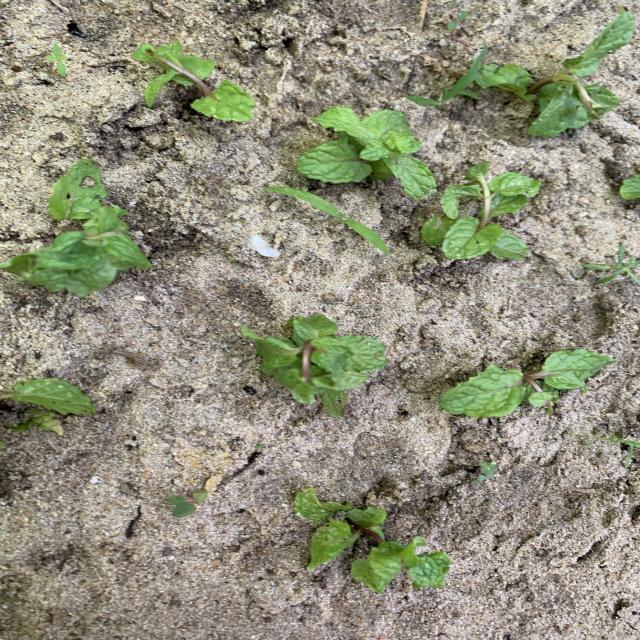crop: (0, 160, 151, 295), (477, 8, 635, 135), (294, 488, 451, 591), (242, 316, 387, 415), (299, 108, 435, 199), (439, 350, 614, 417), (423, 162, 539, 259), (134, 43, 253, 119), (1, 379, 95, 431), (620, 165, 639, 199)
weed: (265, 186, 389, 253), (408, 45, 487, 105), (584, 244, 639, 285), (168, 489, 210, 517), (46, 44, 67, 73), (471, 462, 496, 483), (447, 9, 467, 30), (254, 444, 265, 448)
